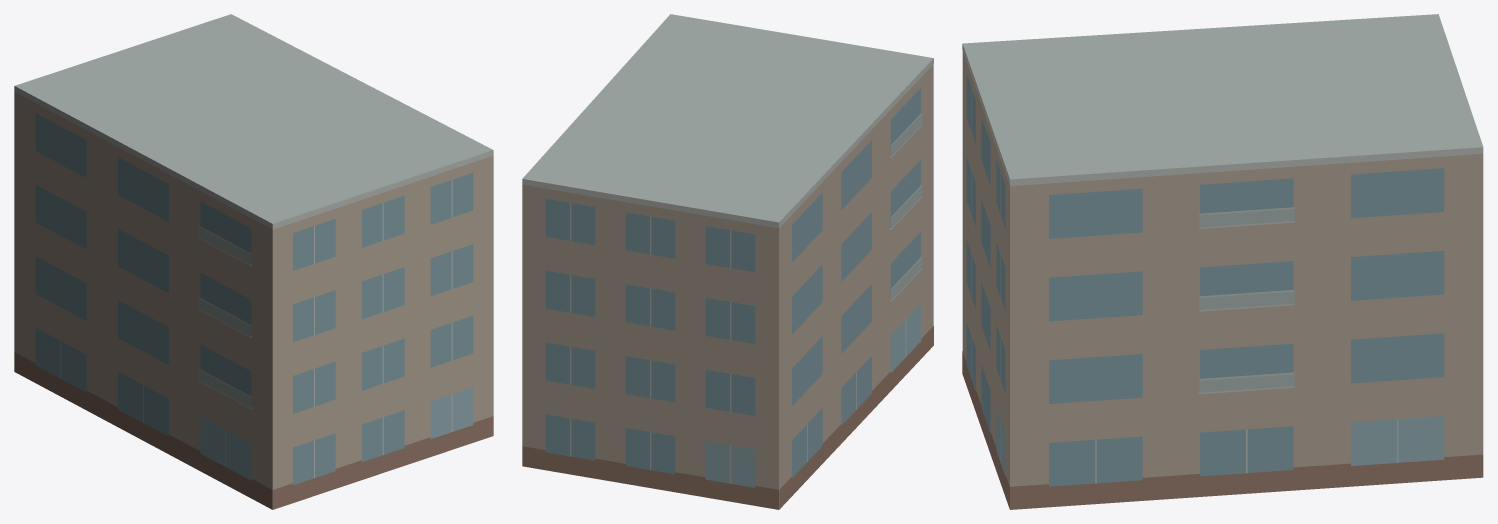
File: survey-upis-32707850.glb
The picture shows the model from 3 angles, left to right: view 1: azimuth 30°, elevation 25°; view 2: azimuth 150°, elevation 25°; view 3: azimuth 270°, elevation 25°; orthographic projection. The views are drawn at different scales.
Visible parts, largest first — view 1: survey-upis-32707850.tmp; view 2: survey-upis-32707850.tmp; view 3: survey-upis-32707850.tmp.
Part boxes in pixels (box(x1,y1,x2,y2)): survey-upis-32707850.tmp: box(14, 14, 493, 509); survey-upis-32707850.tmp: box(522, 14, 933, 509); survey-upis-32707850.tmp: box(962, 14, 1483, 509).
Size of the model in its own units: 13.12 by 12.2 by 17.45.
